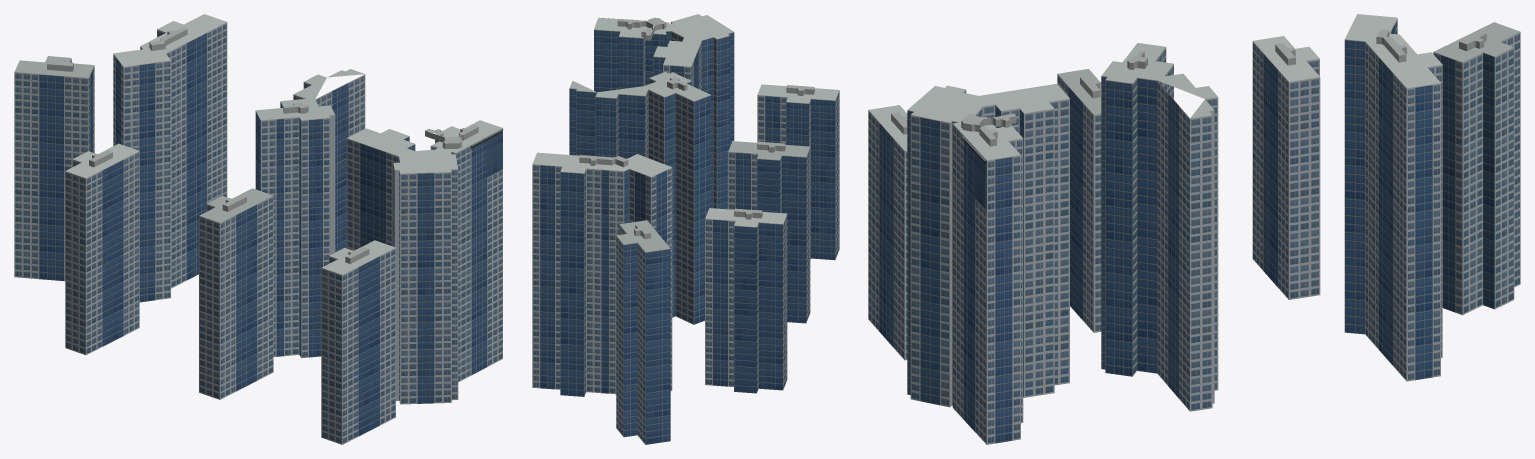
Rendered from apt-a10023673.glb.
The picture shows the model from 3 angles, left to right: view 1: azimuth 30°, elevation 25°; view 2: azimuth 150°, elevation 25°; view 3: azimuth 270°, elevation 25°; orthographic projection. The views are drawn at different scales.
Parts seen in each view (by area): view 1: 반포르엘; view 2: 반포르엘; view 3: 반포르엘.
Part boxes in pixels (x1,y1,x2,y2): 반포르엘: [14, 14, 503, 444]; 반포르엘: [532, 14, 839, 444]; 반포르엘: [868, 14, 1520, 444].
Size of the model in its own units: 142 by 104 by 205.
3 materials, 1 textured.
